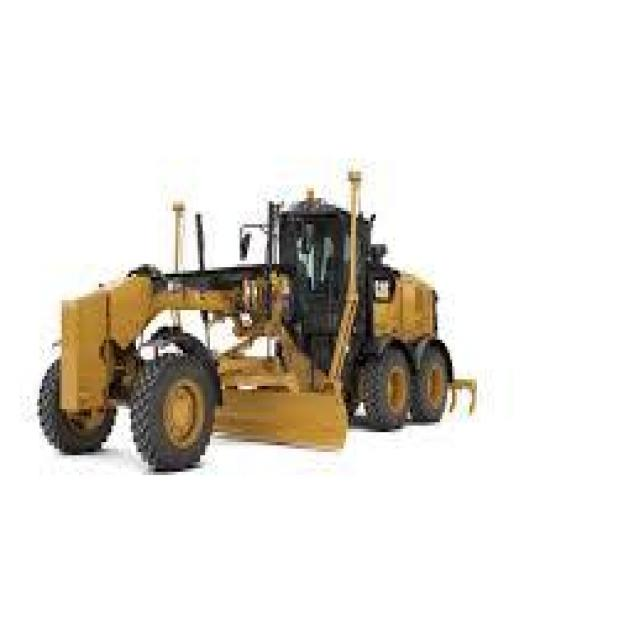Grader: (30, 155, 519, 485)
